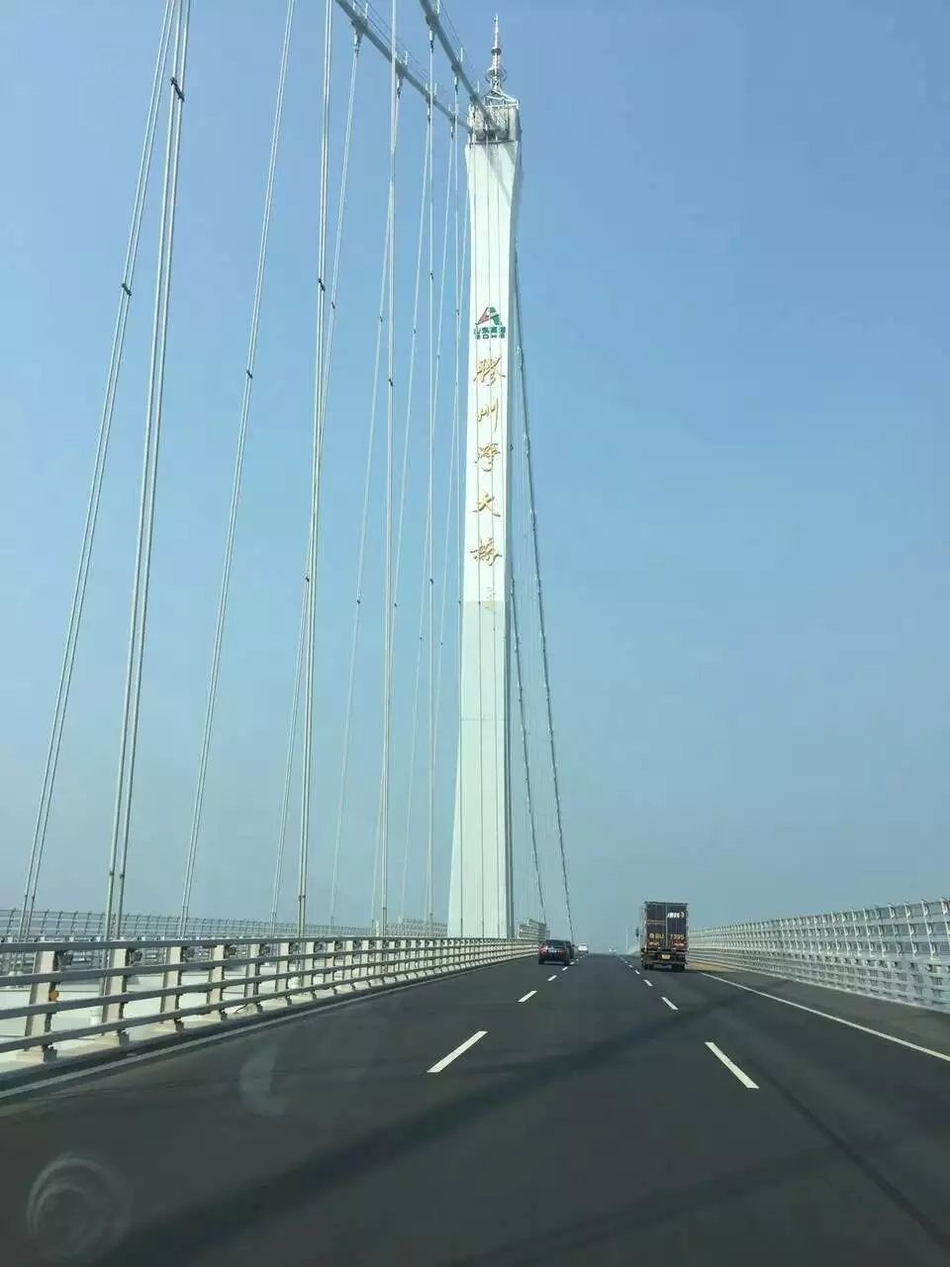lane: (700, 966, 950, 1059), (429, 1026, 494, 1078), (702, 1034, 753, 1088), (659, 990, 679, 1012), (515, 986, 539, 1002)
